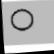no answer: (7, 5, 37, 35)
